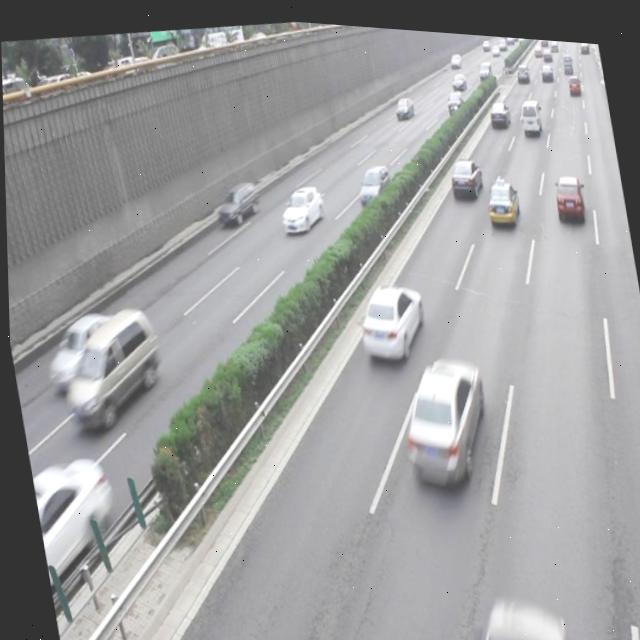car: (388, 339, 495, 487), (27, 450, 125, 602), (40, 305, 128, 397), (349, 270, 428, 360), (468, 580, 559, 640), (274, 176, 327, 233), (212, 174, 261, 225), (480, 168, 522, 225), (352, 156, 394, 206), (445, 146, 484, 196), (549, 163, 585, 217)
truck: (49, 295, 169, 436)
